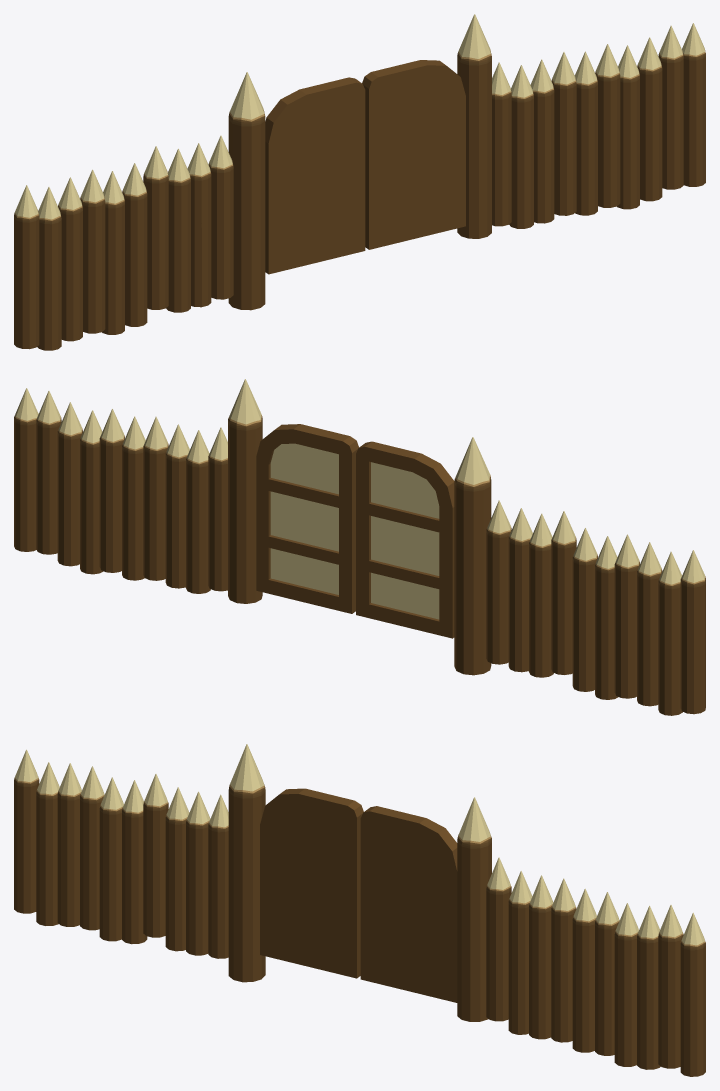
Rendered from baricades_door.fbx.
3 views of the same model, one above another, from view 1: azimuth 30°, elevation 25°; view 2: azimuth 150°, elevation 25°; view 3: azimuth 330°, elevation 25° (orthographic).
Visible parts, largest first — view 1: Cube, Cylinder.001, Cylinder.020, Cylinder.013, Cylinder.003, Cylinder.027, Cylinder.015, Cylinder.031, Cylinder.011, Cylinder.028, Cylinder.008, Cylinder.012 (+11 smaller); view 2: Cube, Cylinder.001, Cylinder.020, Cylinder.013, Cylinder.028, Cylinder.003, Cylinder.011, Cylinder.015, Cylinder.027, Cylinder.031, Cylinder.008, Cylinder.024 (+11 smaller); view 3: Cube, Cylinder.001, Cylinder.020, Cylinder.024, Cylinder.022, Cylinder.009, Cylinder.013, Cylinder.025, Cylinder.014, Cylinder.029, Cylinder.002, Cylinder.010 (+11 smaller).
Part boxes in pixels (x1,y1,x2,y2): Cube: (265, 60, 465, 274); Cylinder.001: (228, 72, 265, 310); Cylinder.020: (457, 14, 491, 238); Cylinder.013: (14, 185, 39, 349); Cylinder.003: (208, 135, 233, 299); Cylinder.027: (637, 37, 662, 201); Cylinder.015: (80, 169, 105, 333); Cylinder.031: (595, 44, 620, 207); Cylinder.011: (122, 163, 147, 326); Cylinder.028: (551, 52, 576, 215); Cylinder.008: (166, 148, 190, 312); Cylinder.012: (37, 187, 61, 350); Cube: (256, 424, 454, 638); Cylinder.001: (454, 437, 491, 675); Cylinder.020: (228, 379, 262, 603); Cylinder.013: (680, 550, 705, 714); Cylinder.028: (143, 416, 168, 580); Cylinder.003: (486, 500, 511, 664); Cylinder.011: (572, 528, 597, 691); Cylinder.015: (614, 534, 639, 698); Cylinder.027: (57, 402, 82, 566); Cylinder.031: (99, 409, 124, 572); Cylinder.008: (529, 513, 553, 677); Cylinder.024: (14, 388, 38, 551); Cube: (260, 788, 457, 1002); Cylinder.001: (228, 744, 265, 982); Cylinder.020: (457, 797, 491, 1021); Cylinder.024: (680, 912, 705, 1076); Cylinder.022: (486, 857, 511, 1021); Cylinder.009: (143, 774, 168, 937); Cylinder.013: (14, 749, 39, 913); Cylinder.025: (658, 905, 683, 1068); Cylinder.014: (57, 763, 81, 926); Cylinder.029: (529, 875, 553, 1039); Cylinder.002: (186, 791, 210, 955); Cylinder.010: (99, 777, 123, 941).
Bounding box in the file's own units: 6077 × 1962 × 280.
